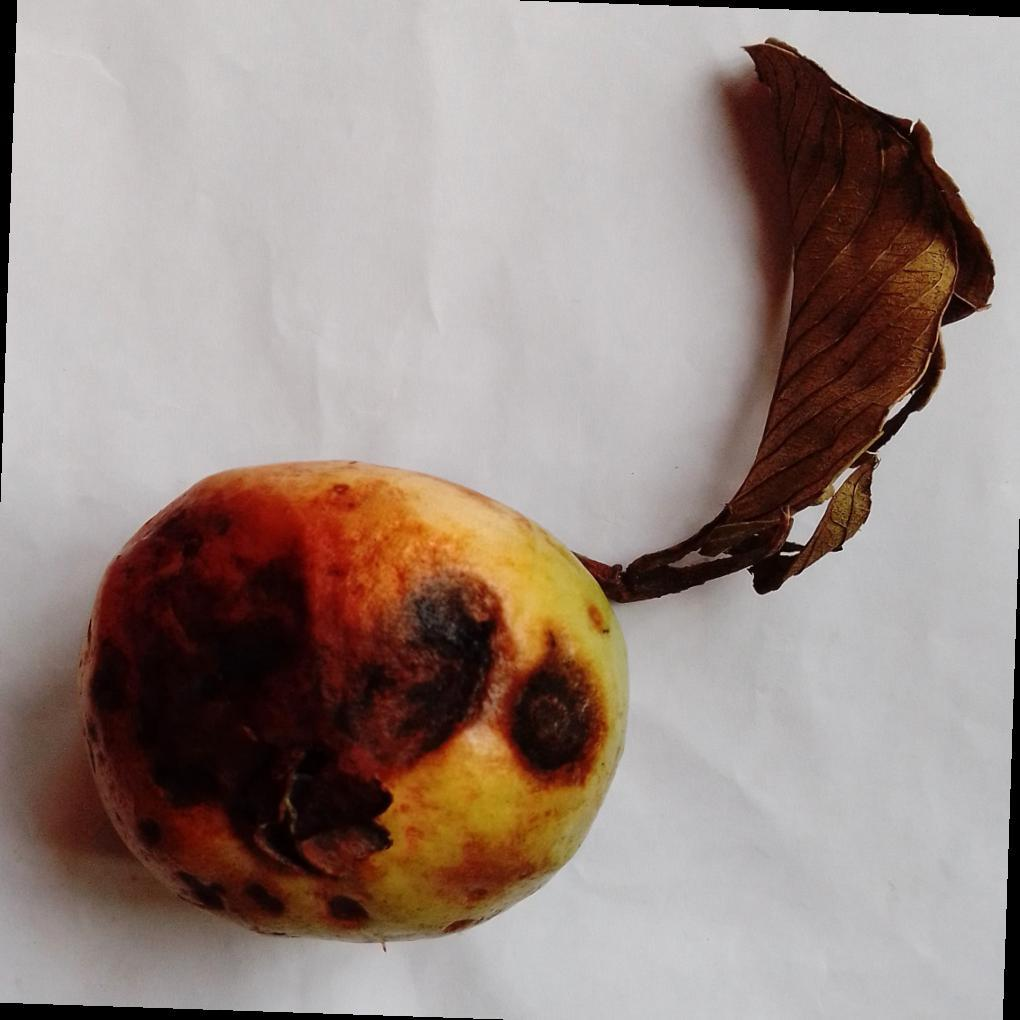FreshOrange: (78, 461, 632, 947)
